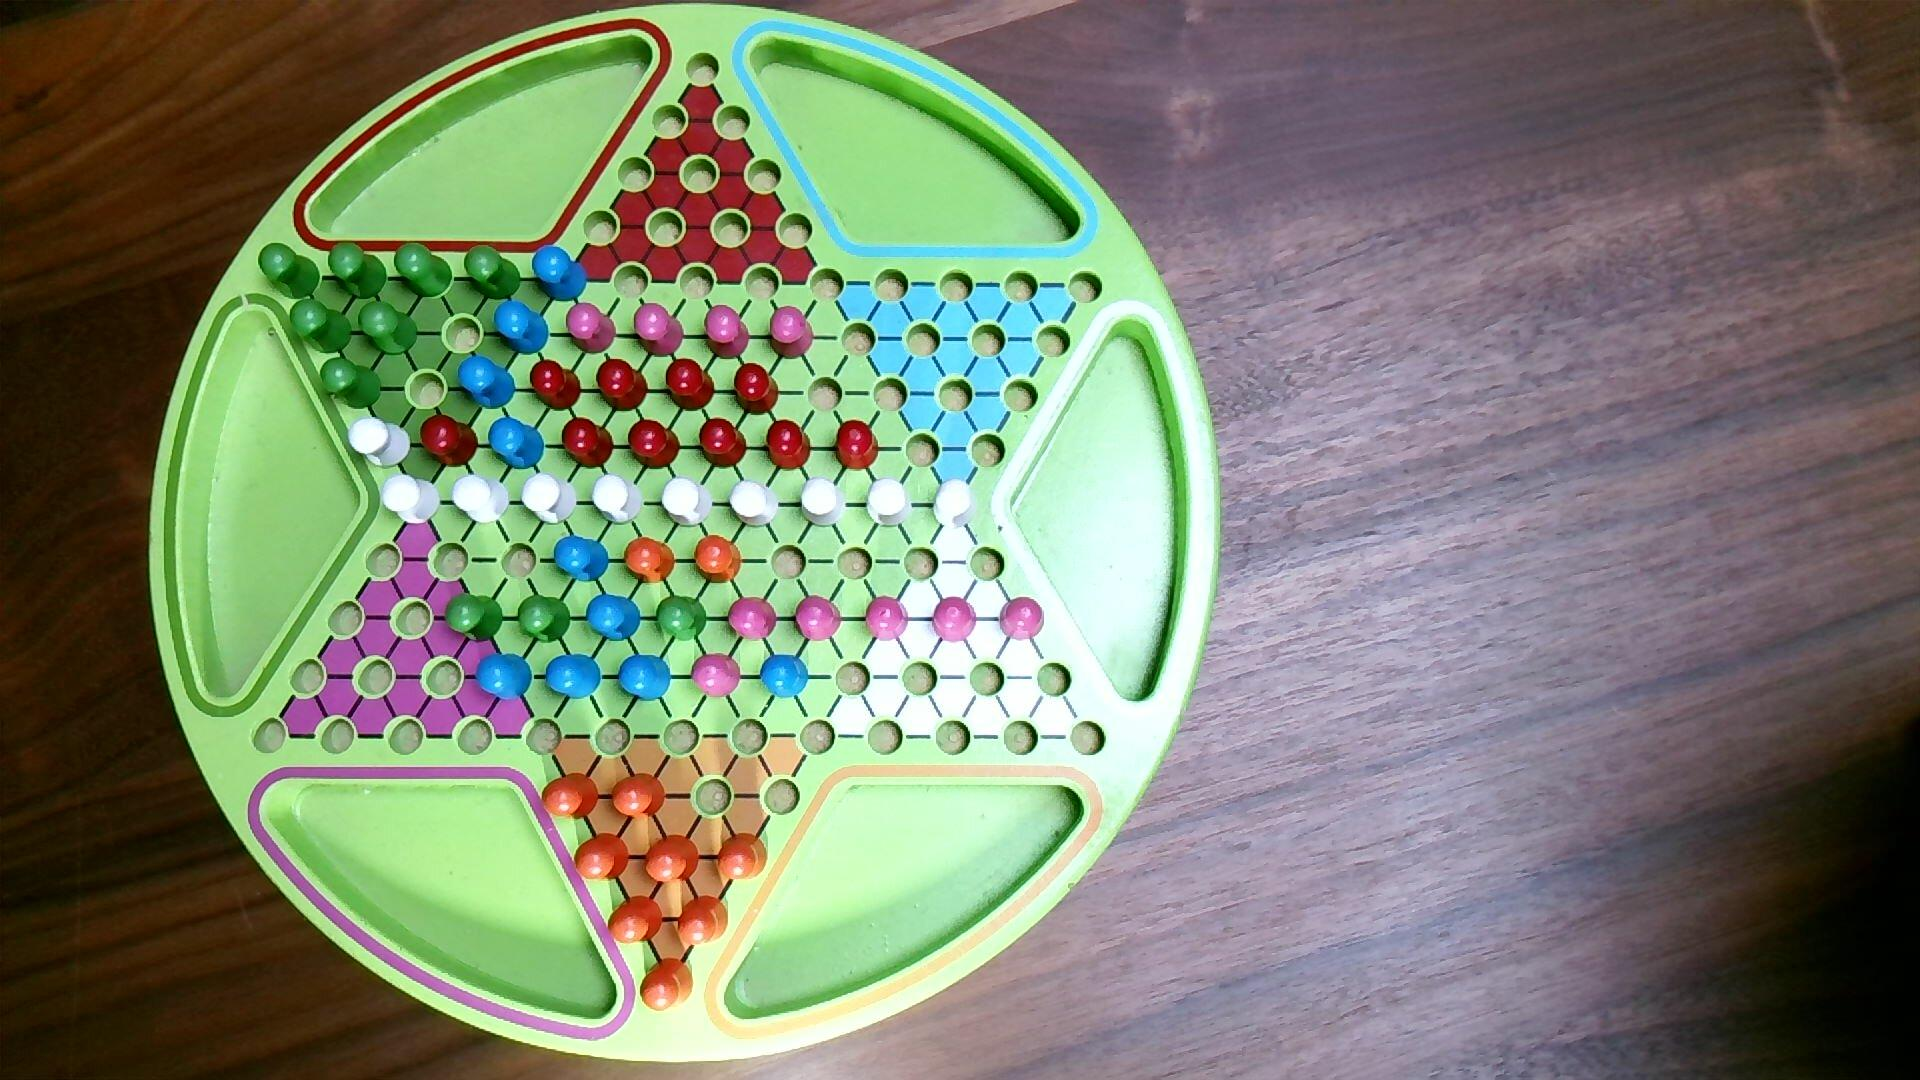B: (530, 244, 589, 305), (456, 353, 518, 411), (487, 415, 547, 472), (493, 301, 553, 357), (473, 651, 537, 703), (543, 651, 604, 702), (585, 592, 644, 644), (553, 534, 611, 584), (617, 653, 673, 703), (758, 653, 811, 702)
G: (257, 243, 323, 302), (327, 243, 389, 302), (289, 298, 353, 355), (393, 243, 455, 301), (357, 301, 421, 357), (319, 356, 384, 411), (464, 244, 524, 303), (444, 593, 505, 644), (517, 593, 574, 646), (655, 595, 708, 644)
O: (640, 957, 696, 1014), (642, 833, 702, 886), (541, 771, 601, 822), (675, 894, 731, 948), (574, 832, 632, 884), (607, 895, 665, 945), (715, 832, 770, 884), (611, 773, 669, 822), (622, 535, 676, 585), (694, 534, 744, 585)
R: (419, 413, 481, 469), (595, 357, 651, 414), (626, 418, 683, 472), (560, 415, 616, 469), (529, 359, 583, 413), (665, 357, 717, 413), (698, 415, 748, 472), (764, 418, 814, 473), (832, 419, 882, 473), (733, 363, 781, 417)
R2: (564, 302, 618, 357), (633, 302, 686, 359), (766, 305, 816, 363), (703, 305, 752, 363), (688, 651, 742, 700), (794, 593, 844, 644), (727, 596, 779, 644), (864, 593, 910, 644), (1000, 596, 1047, 644), (931, 596, 978, 644)
W: (347, 417, 414, 471), (380, 473, 442, 527), (520, 472, 579, 527), (451, 473, 512, 526), (591, 473, 646, 527), (661, 476, 713, 529), (728, 479, 781, 529), (864, 477, 914, 530), (931, 477, 980, 531), (799, 476, 848, 529)
